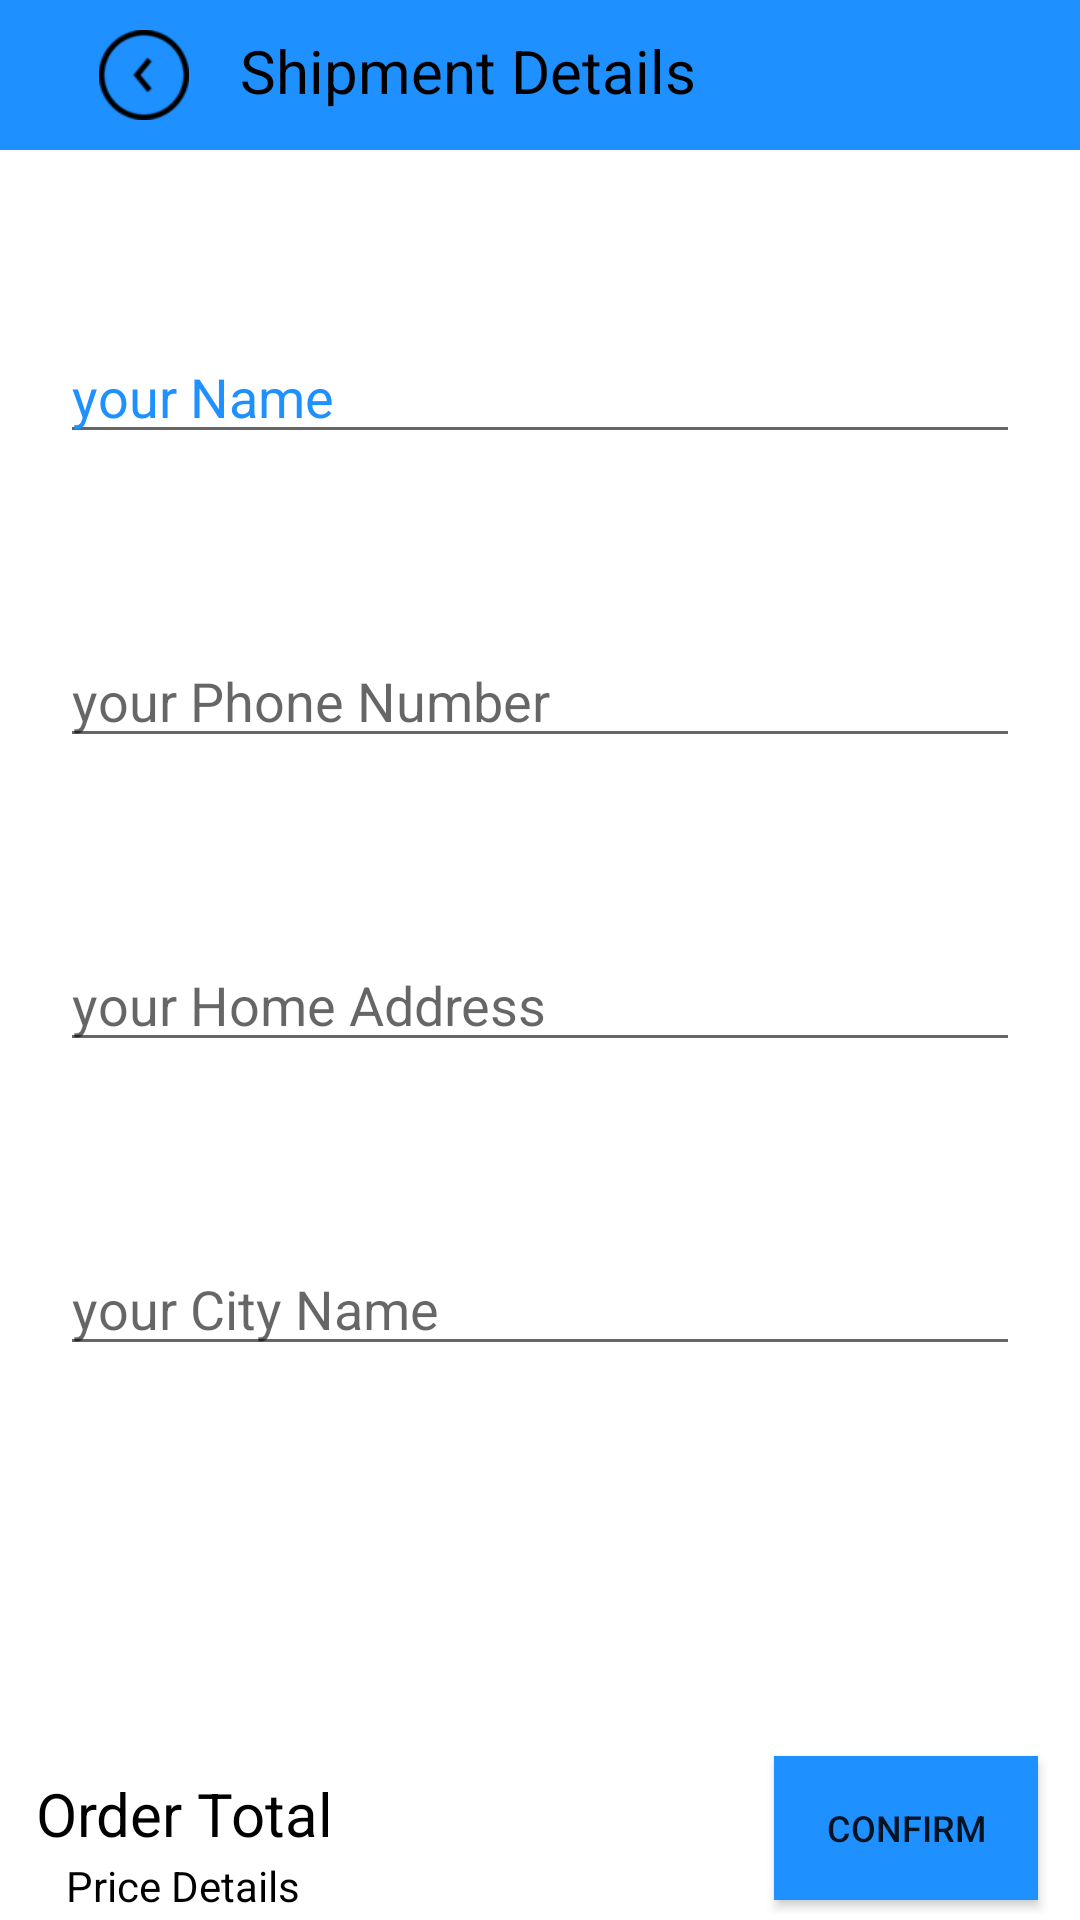

Point at icon controls on the screen. Image size 1080 x 1920, points as (x,y).
backbutton: (144,75)
